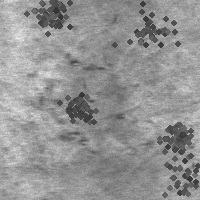rolled-in_scale: (42, 52, 122, 149), (111, 0, 183, 65), (138, 128, 200, 200), (49, 78, 107, 136), (150, 112, 198, 160), (21, 0, 77, 37), (165, 116, 200, 167)
